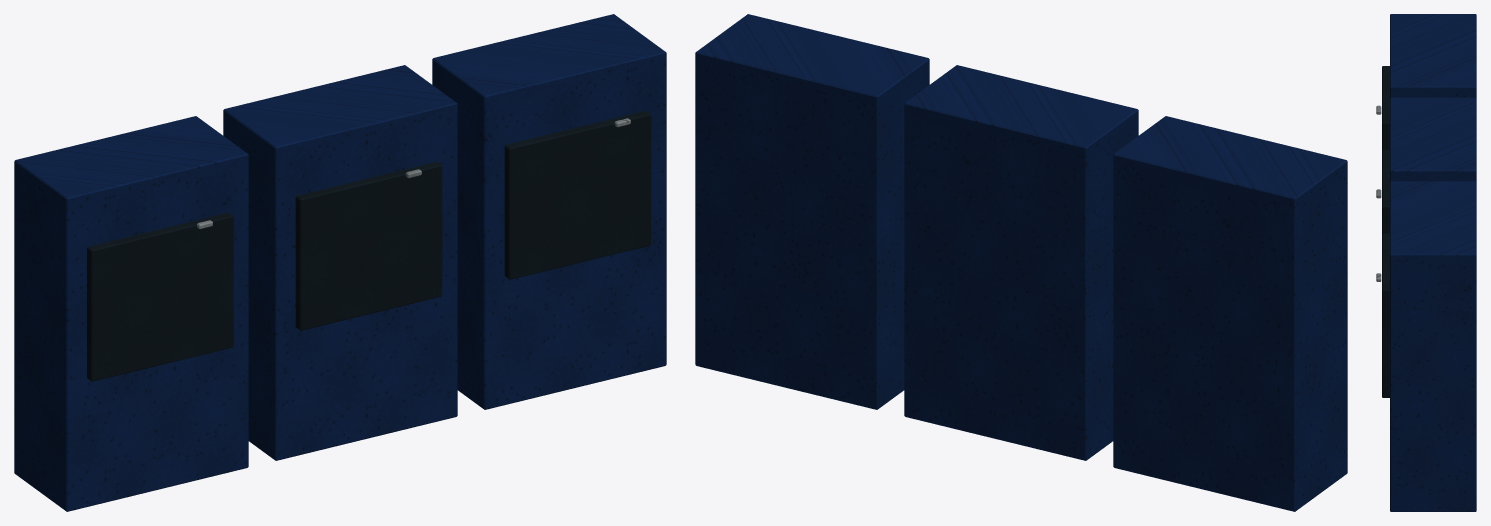
File: PROP-C33DE3A76E7C_lod1.glb
The picture shows the model from 3 angles, left to right: view 1: azimuth 30°, elevation 25°; view 2: azimuth 150°, elevation 25°; view 3: azimuth 270°, elevation 25°; orthographic projection. The views are drawn at different scales.
Visible parts, largest first — view 1: cabinet.005, recessed_front.005; view 2: cabinet.005; view 3: cabinet.005, recessed_front.005, coin_slot.005.
Boxes of the visible parts, <box> form: cabinet.005: <box>14,14,666,511</box>; recessed_front.005: <box>87,111,651,381</box>; cabinet.005: <box>695,14,1347,511</box>; cabinet.005: <box>1390,14,1476,511</box>; recessed_front.005: <box>1382,66,1389,397</box>; coin_slot.005: <box>1376,105,1381,281</box>.
Bounding box in the file's own units: 2.3 × 1.15 × 0.405.
Materials: 3 (3 with a texture image).
